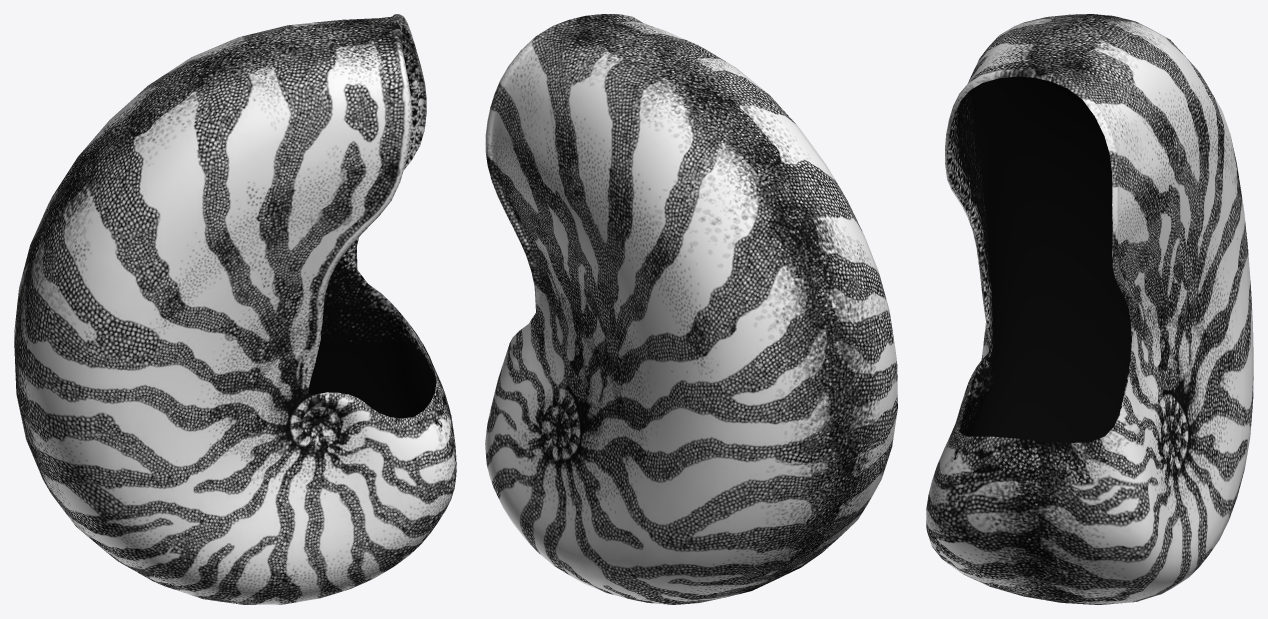
File: KominJeong_LinearSpin.fbx
3 renders of one model, left to right at view 1: azimuth 30°, elevation 25°; view 2: azimuth 150°, elevation 25°; view 3: azimuth 270°, elevation 25°, orthographic. The views are drawn at different scales.
Visible parts, largest first — view 1: KominJeong_Shell02_LinearSpin; view 2: KominJeong_Shell02_LinearSpin; view 3: KominJeong_Shell02_LinearSpin.
Boxes of the visible parts, x1,y1,x2,y2 form: KominJeong_Shell02_LinearSpin: [14, 14, 456, 604]; KominJeong_Shell02_LinearSpin: [485, 14, 897, 604]; KominJeong_Shell02_LinearSpin: [926, 14, 1253, 604].
Bounding box in the file's own units: 17.42 × 22.27 × 11.78.
Materials: 2 (2 with a texture image).
